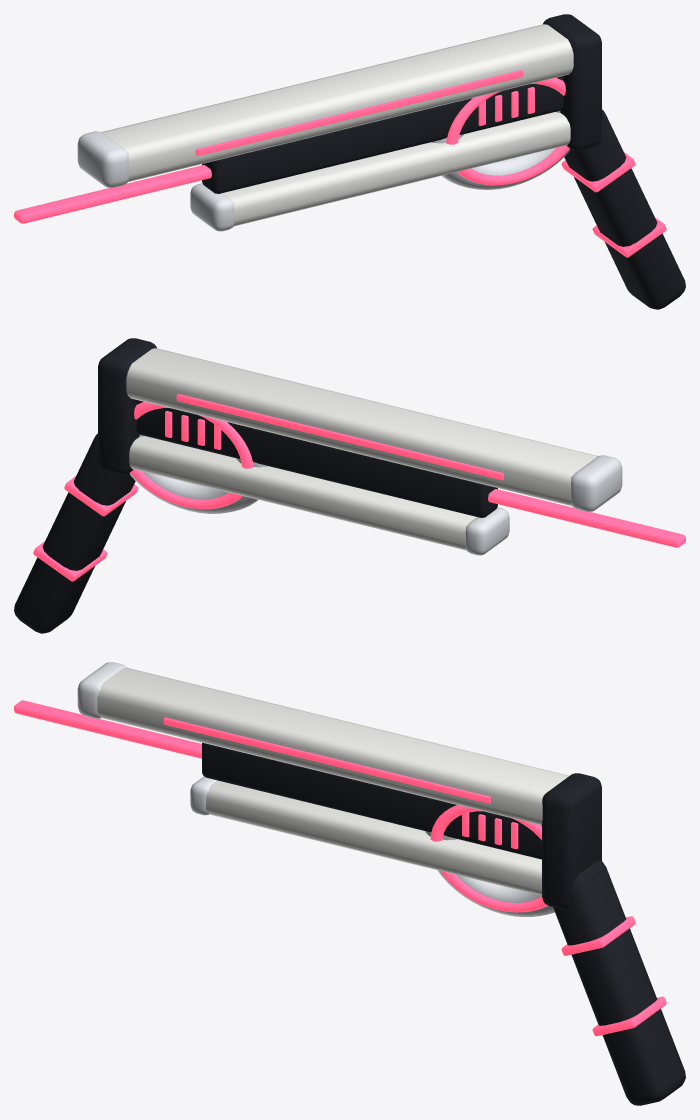
The model's file is rail.glb.
3 renders of one model, top to bottom at view 1: azimuth 30°, elevation 25°; view 2: azimuth 150°, elevation 25°; view 3: azimuth 330°, elevation 25°, orthographic.
Visible parts, largest first — view 1: RailTop, RailLow, Spine, Grip, Rear, Beam, RailLine+1, TipTop, LoopLight+1, Loop, TipLow, GripBand0.12 (+1 smaller); view 2: RailTop, RailLow, Spine, Grip, Rear, Beam, RailLine-1, TipTop, LoopLight-1, Loop, TipLow, GripBand0.12 (+1 smaller); view 3: RailTop, Grip, RailLow, Spine, Rear, Beam, RailLine+1, LoopLight+1, Loop, TipTop, GripBand0.26, GripBand0.12.
Boxes of the visible parts, <box> form: RailTop: <box>102,24,573,181</box>; RailLow: <box>223,112,570,226</box>; Spine: <box>202,76,563,193</box>; Grip: <box>564,109,685,309</box>; Rear: <box>543,14,601,150</box>; Beam: <box>14,165,211,223</box>; RailLine+1: <box>196,70,523,156</box>; TipTop: <box>77,131,128,187</box>; LoopLight+1: <box>446,78,569,185</box>; Loop: <box>431,111,569,189</box>; TipLow: <box>190,183,234,231</box>; GripBand0.12: <box>561,152,635,192</box>; RailTop: <box>126,348,597,505</box>; RailLow: <box>129,436,476,550</box>; Spine: <box>136,400,497,517</box>; Grip: <box>14,433,135,633</box>; Rear: <box>98,338,156,474</box>; Beam: <box>488,489,685,547</box>; RailLine-1: <box>176,394,503,480</box>; TipTop: <box>571,455,622,511</box>; LoopLight-1: <box>130,402,253,509</box>; Loop: <box>130,435,268,513</box>; TipLow: <box>465,507,509,555</box>; GripBand0.12: <box>64,476,138,516</box>; RailTop: <box>97,667,569,825</box>; Grip: <box>553,860,685,1105</box>; RailLow: <box>206,780,541,895</box>; Spine: <box>202,742,541,859</box>; Rear: <box>542,773,601,908</box>; Beam: <box>14,700,201,758</box>; RailLine+1: <box>163,717,490,803</box>; LoopLight+1: <box>430,805,547,912</box>; Loop: <box>425,831,554,916</box>; TipTop: <box>77,662,127,718</box>; GripBand0.26: <box>592,996,666,1036</box>; GripBand0.12: <box>561,916,635,955</box>.
Bounding box in the file's own units: 1.21 × 0.5184 × 0.11.
